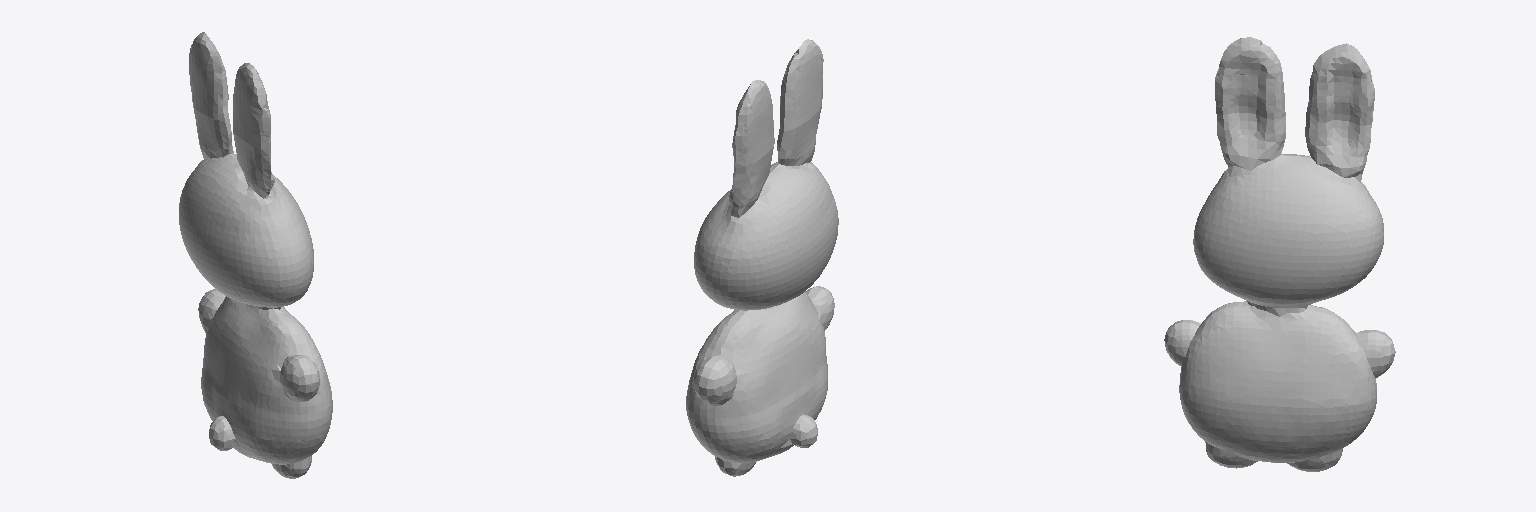
The model's file is rabbit_aug_3.obj.
The picture shows the model from 3 angles: view 1: azimuth 30°, elevation 25°; view 2: azimuth 150°, elevation 25°; view 3: azimuth 270°, elevation 25°; orthographic projection.
Bounding box in the file's own units: 28.13 × 104 × 51.99.